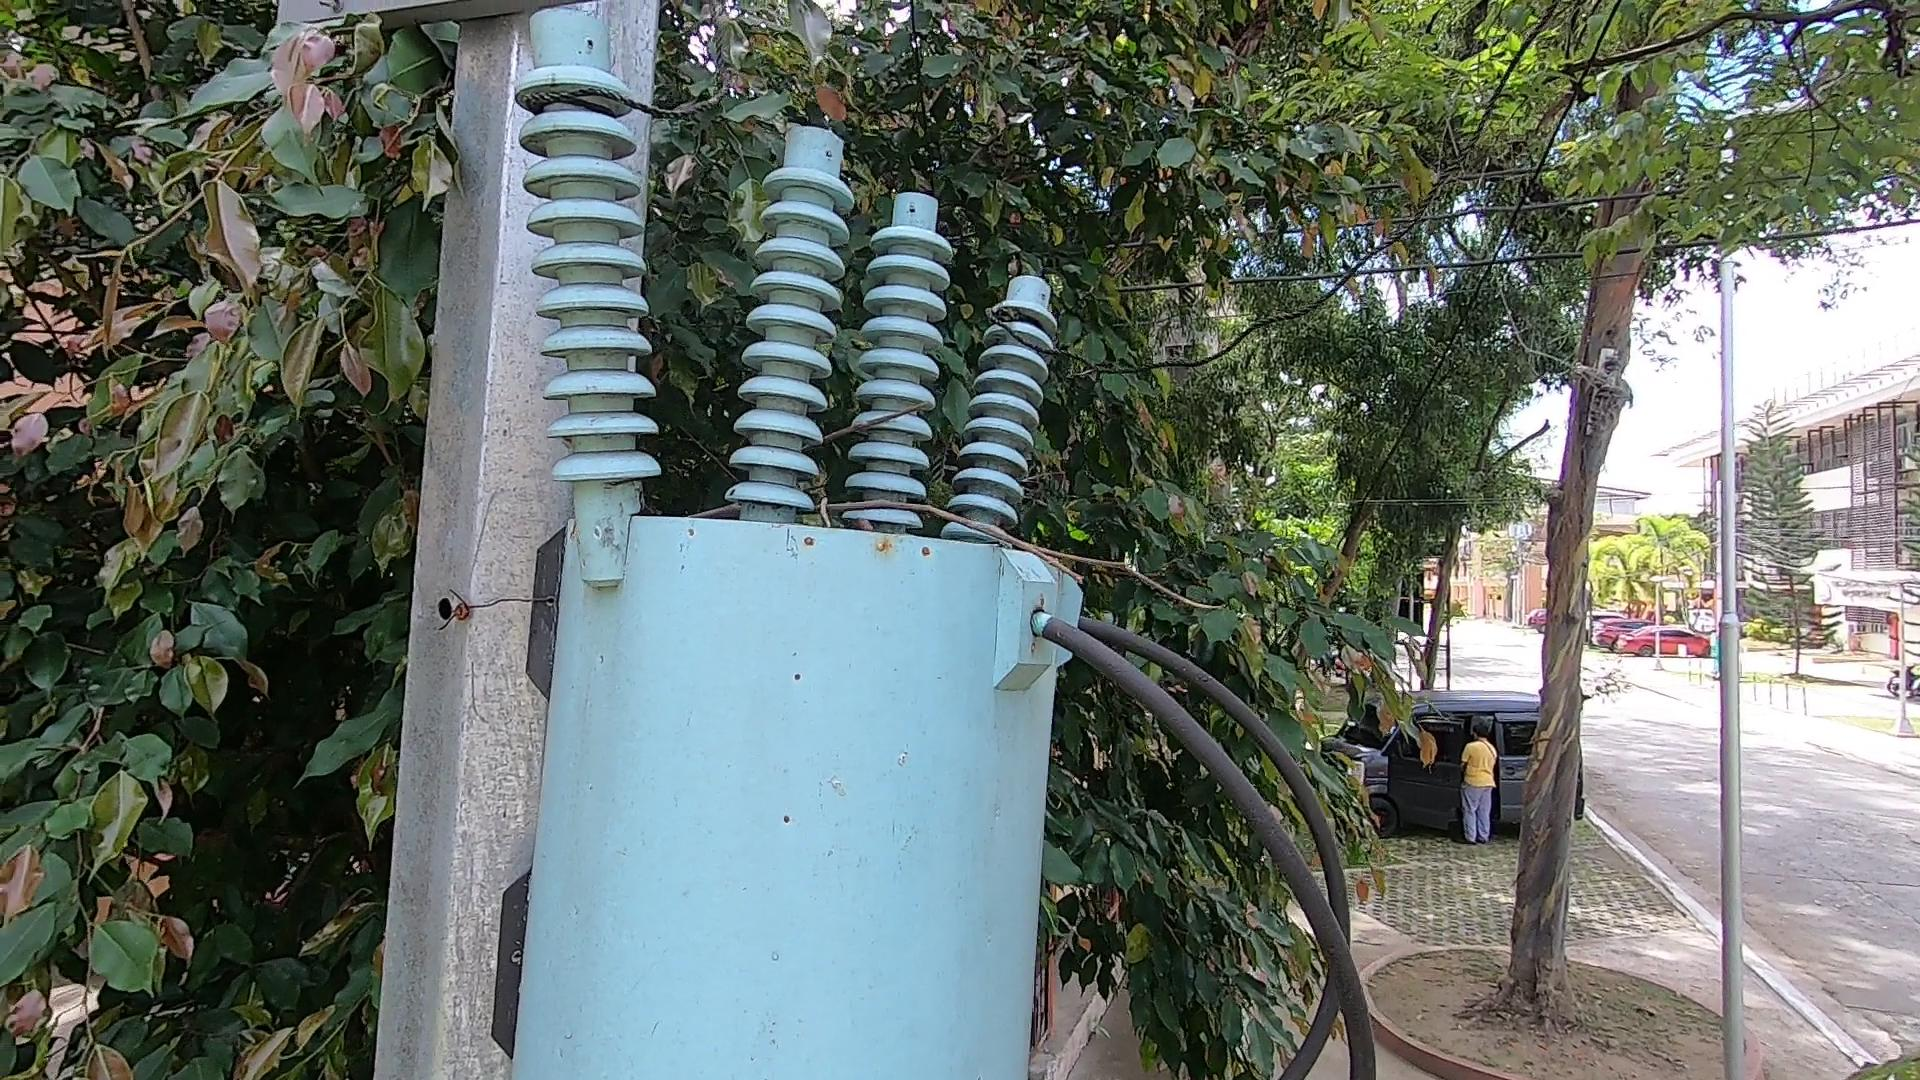leaf: (822, 502, 894, 531)
tree branch: (754, 405, 1244, 640)
